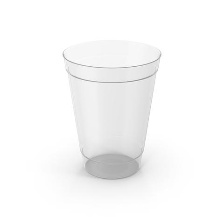glass: (51, 30, 165, 187)
